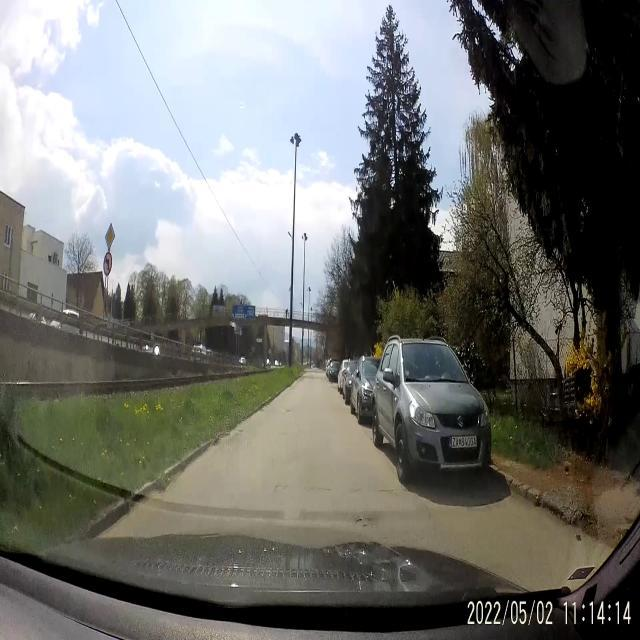Pothole: (352, 504, 376, 527)
